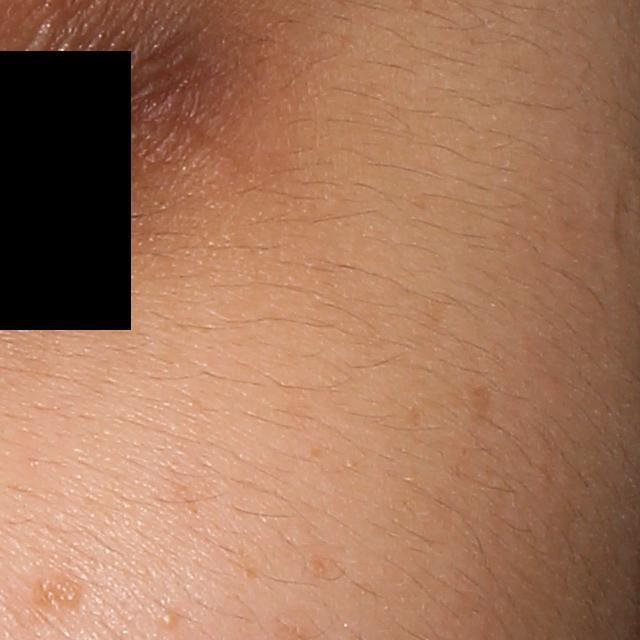comedo: (158, 608, 179, 628)
melasma: (461, 378, 495, 418)
